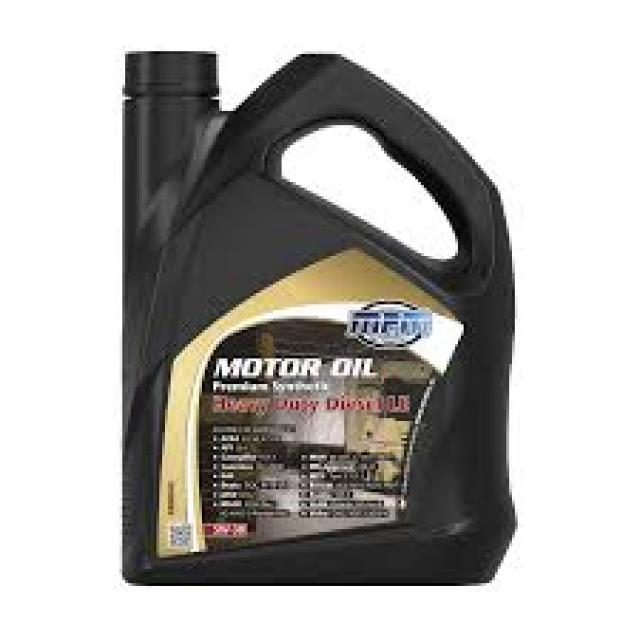motor_oil: (112, 42, 522, 590)
